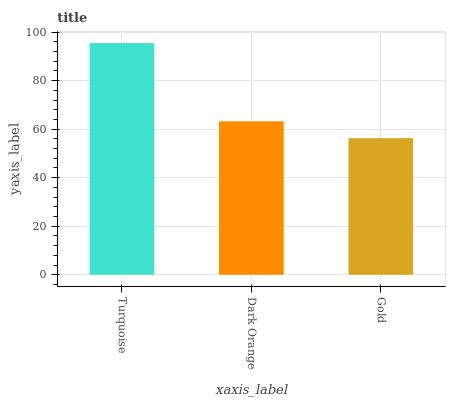axis: (51, 32, 63, 285)
label: (241, 293, 263, 373), (113, 293, 132, 362), (373, 293, 393, 327)
rectangle: (91, 43, 154, 275), (220, 122, 284, 274), (350, 139, 414, 276)
title: (51, 7, 94, 27)
